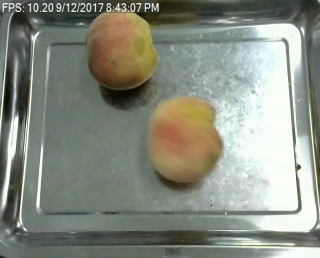Peach: (148, 96, 223, 185), (85, 7, 158, 90)
